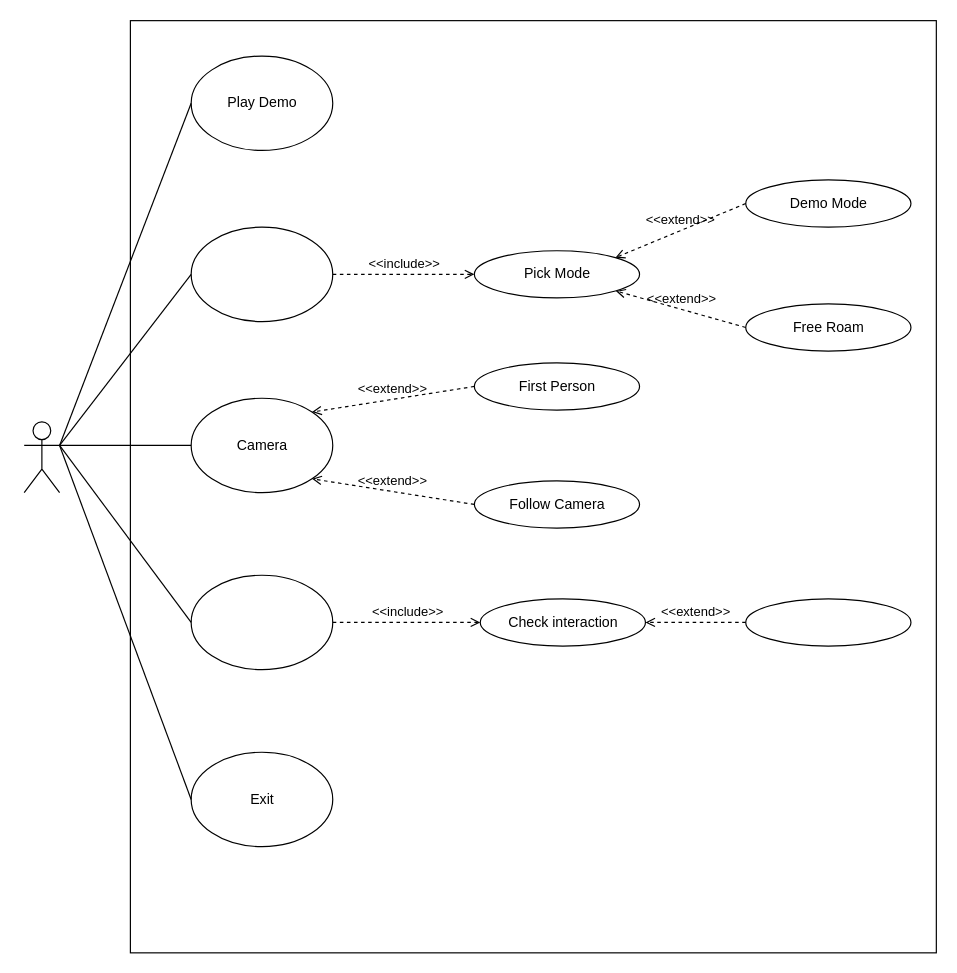
This 957x973 diagram has some shape labels left out. The shapes that lost their labels are listed below. From the top down, each one's centre as x and y in pixels, then its label:
the point at 261,274: Movement
the point at 41,457: Gamer
the point at 261,622: Interaction
the point at 828,622: Bring up prompt
